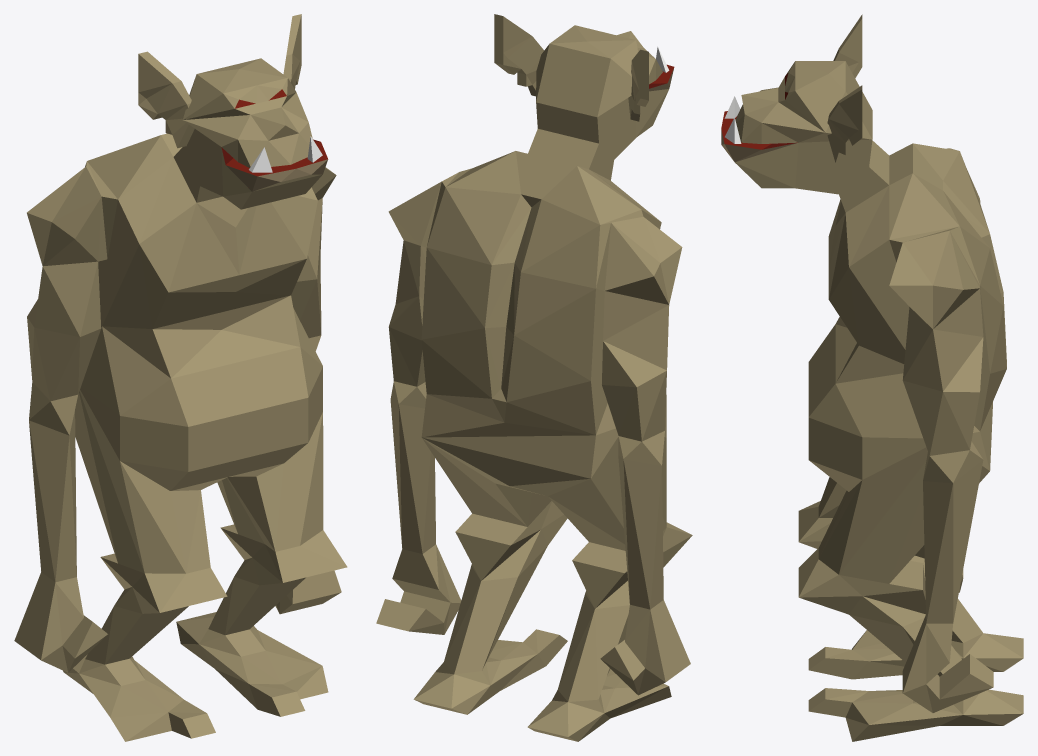
The model's file is thrower_troll.glb.
3 views of the same model, side by side, from view 1: azimuth 30°, elevation 25°; view 2: azimuth 150°, elevation 25°; view 3: azimuth 270°, elevation 25° (orthographic). The views are drawn at different scales.
Bounding box in the file's own units: 96 × 211 × 90.
Materials: 1 (1 with a texture image).
